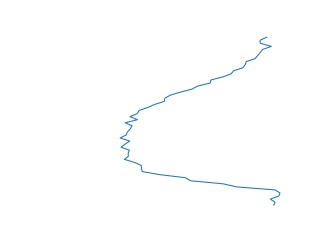underwaterDistributaryChannel: (117, 36, 285, 206)
